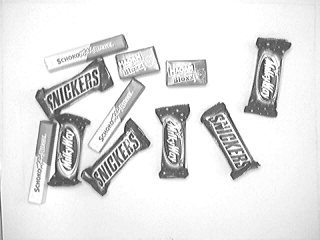Maoam: (118, 46, 161, 78), (166, 58, 208, 86)
Milkyway: (244, 37, 292, 117), (156, 104, 190, 181), (56, 113, 84, 188)
Riegel: (87, 78, 146, 152), (42, 33, 128, 70), (27, 121, 56, 206)
Snickers: (84, 118, 151, 196), (200, 102, 261, 180), (36, 57, 114, 117)
